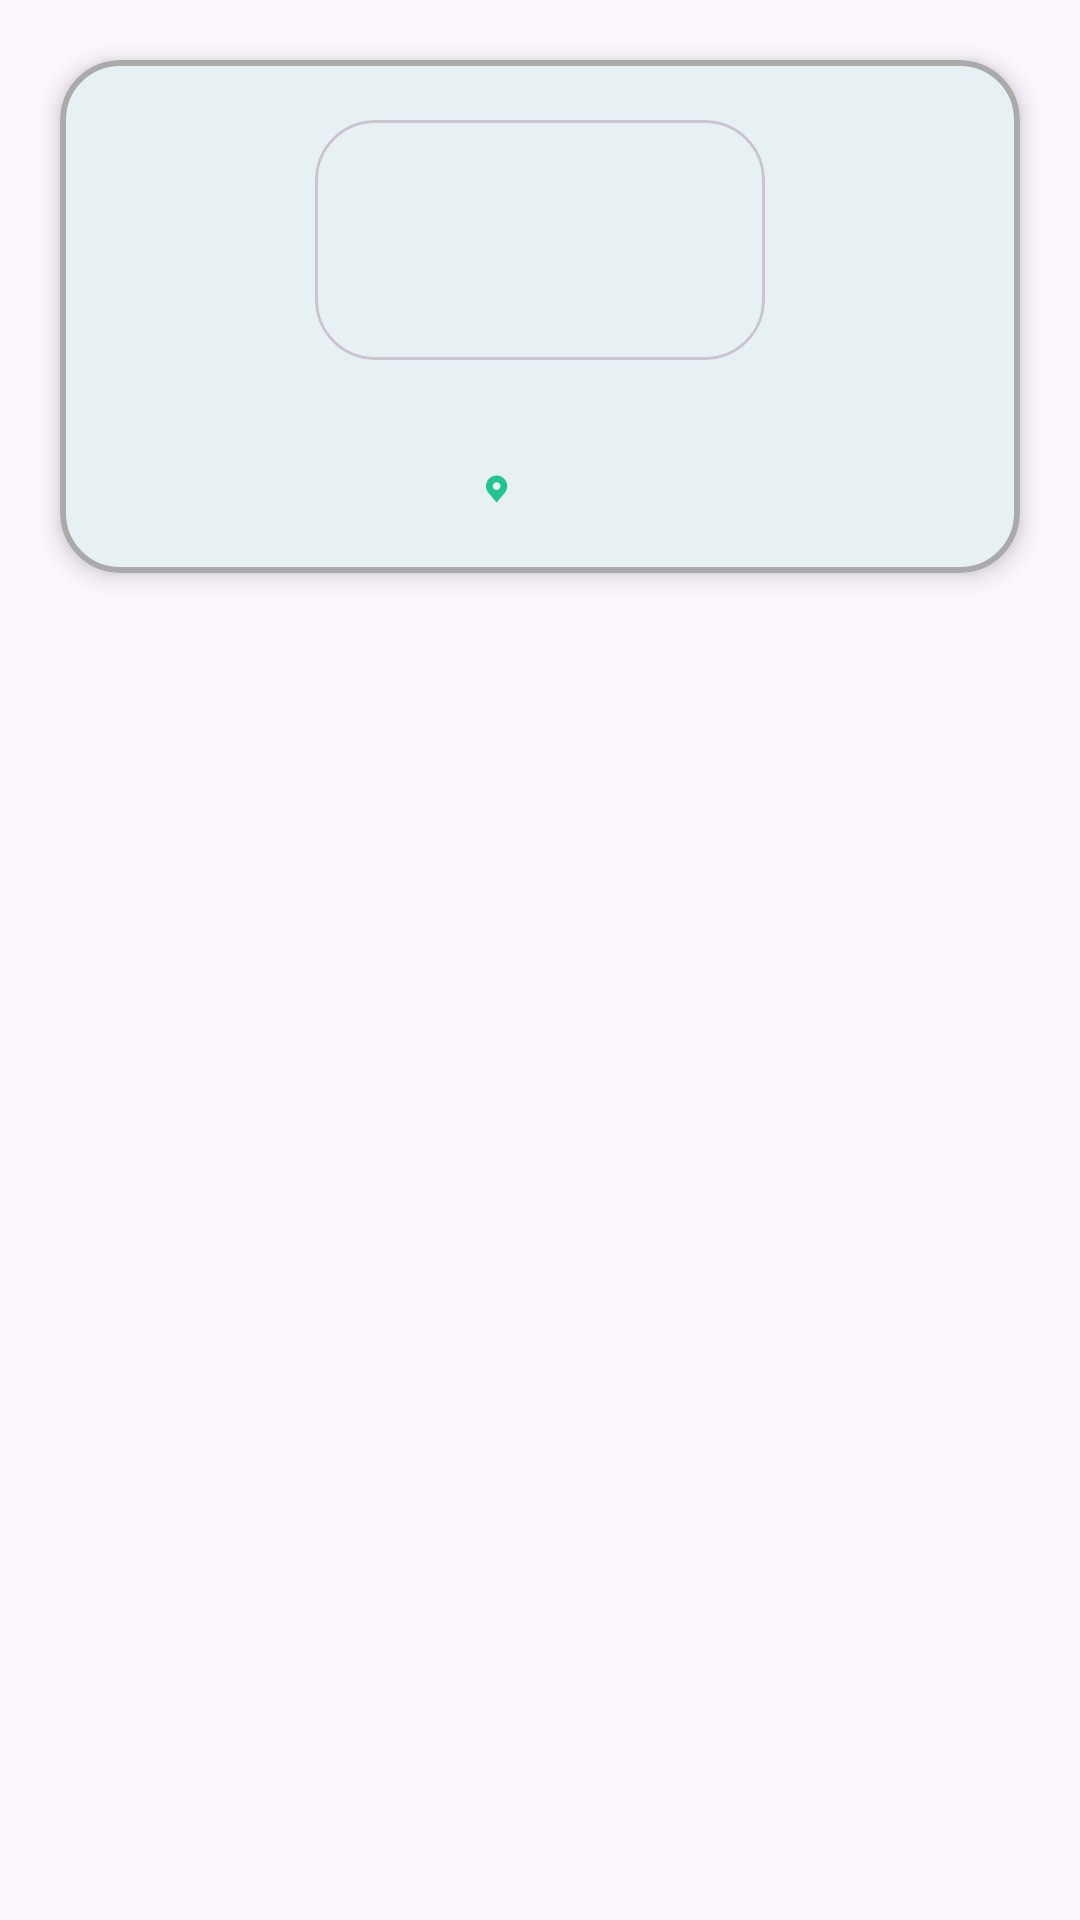

Point at icon controls on the screen. Image size 1080x1920, points as (x,y).
marker: (497,489)
